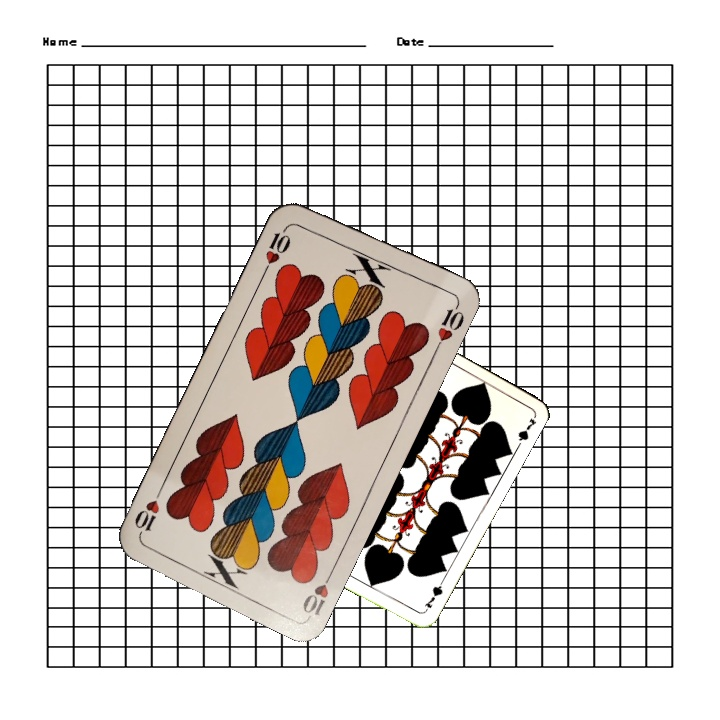G7: (420, 577, 446, 615)
H10: (298, 564, 337, 621), (259, 220, 293, 276)
